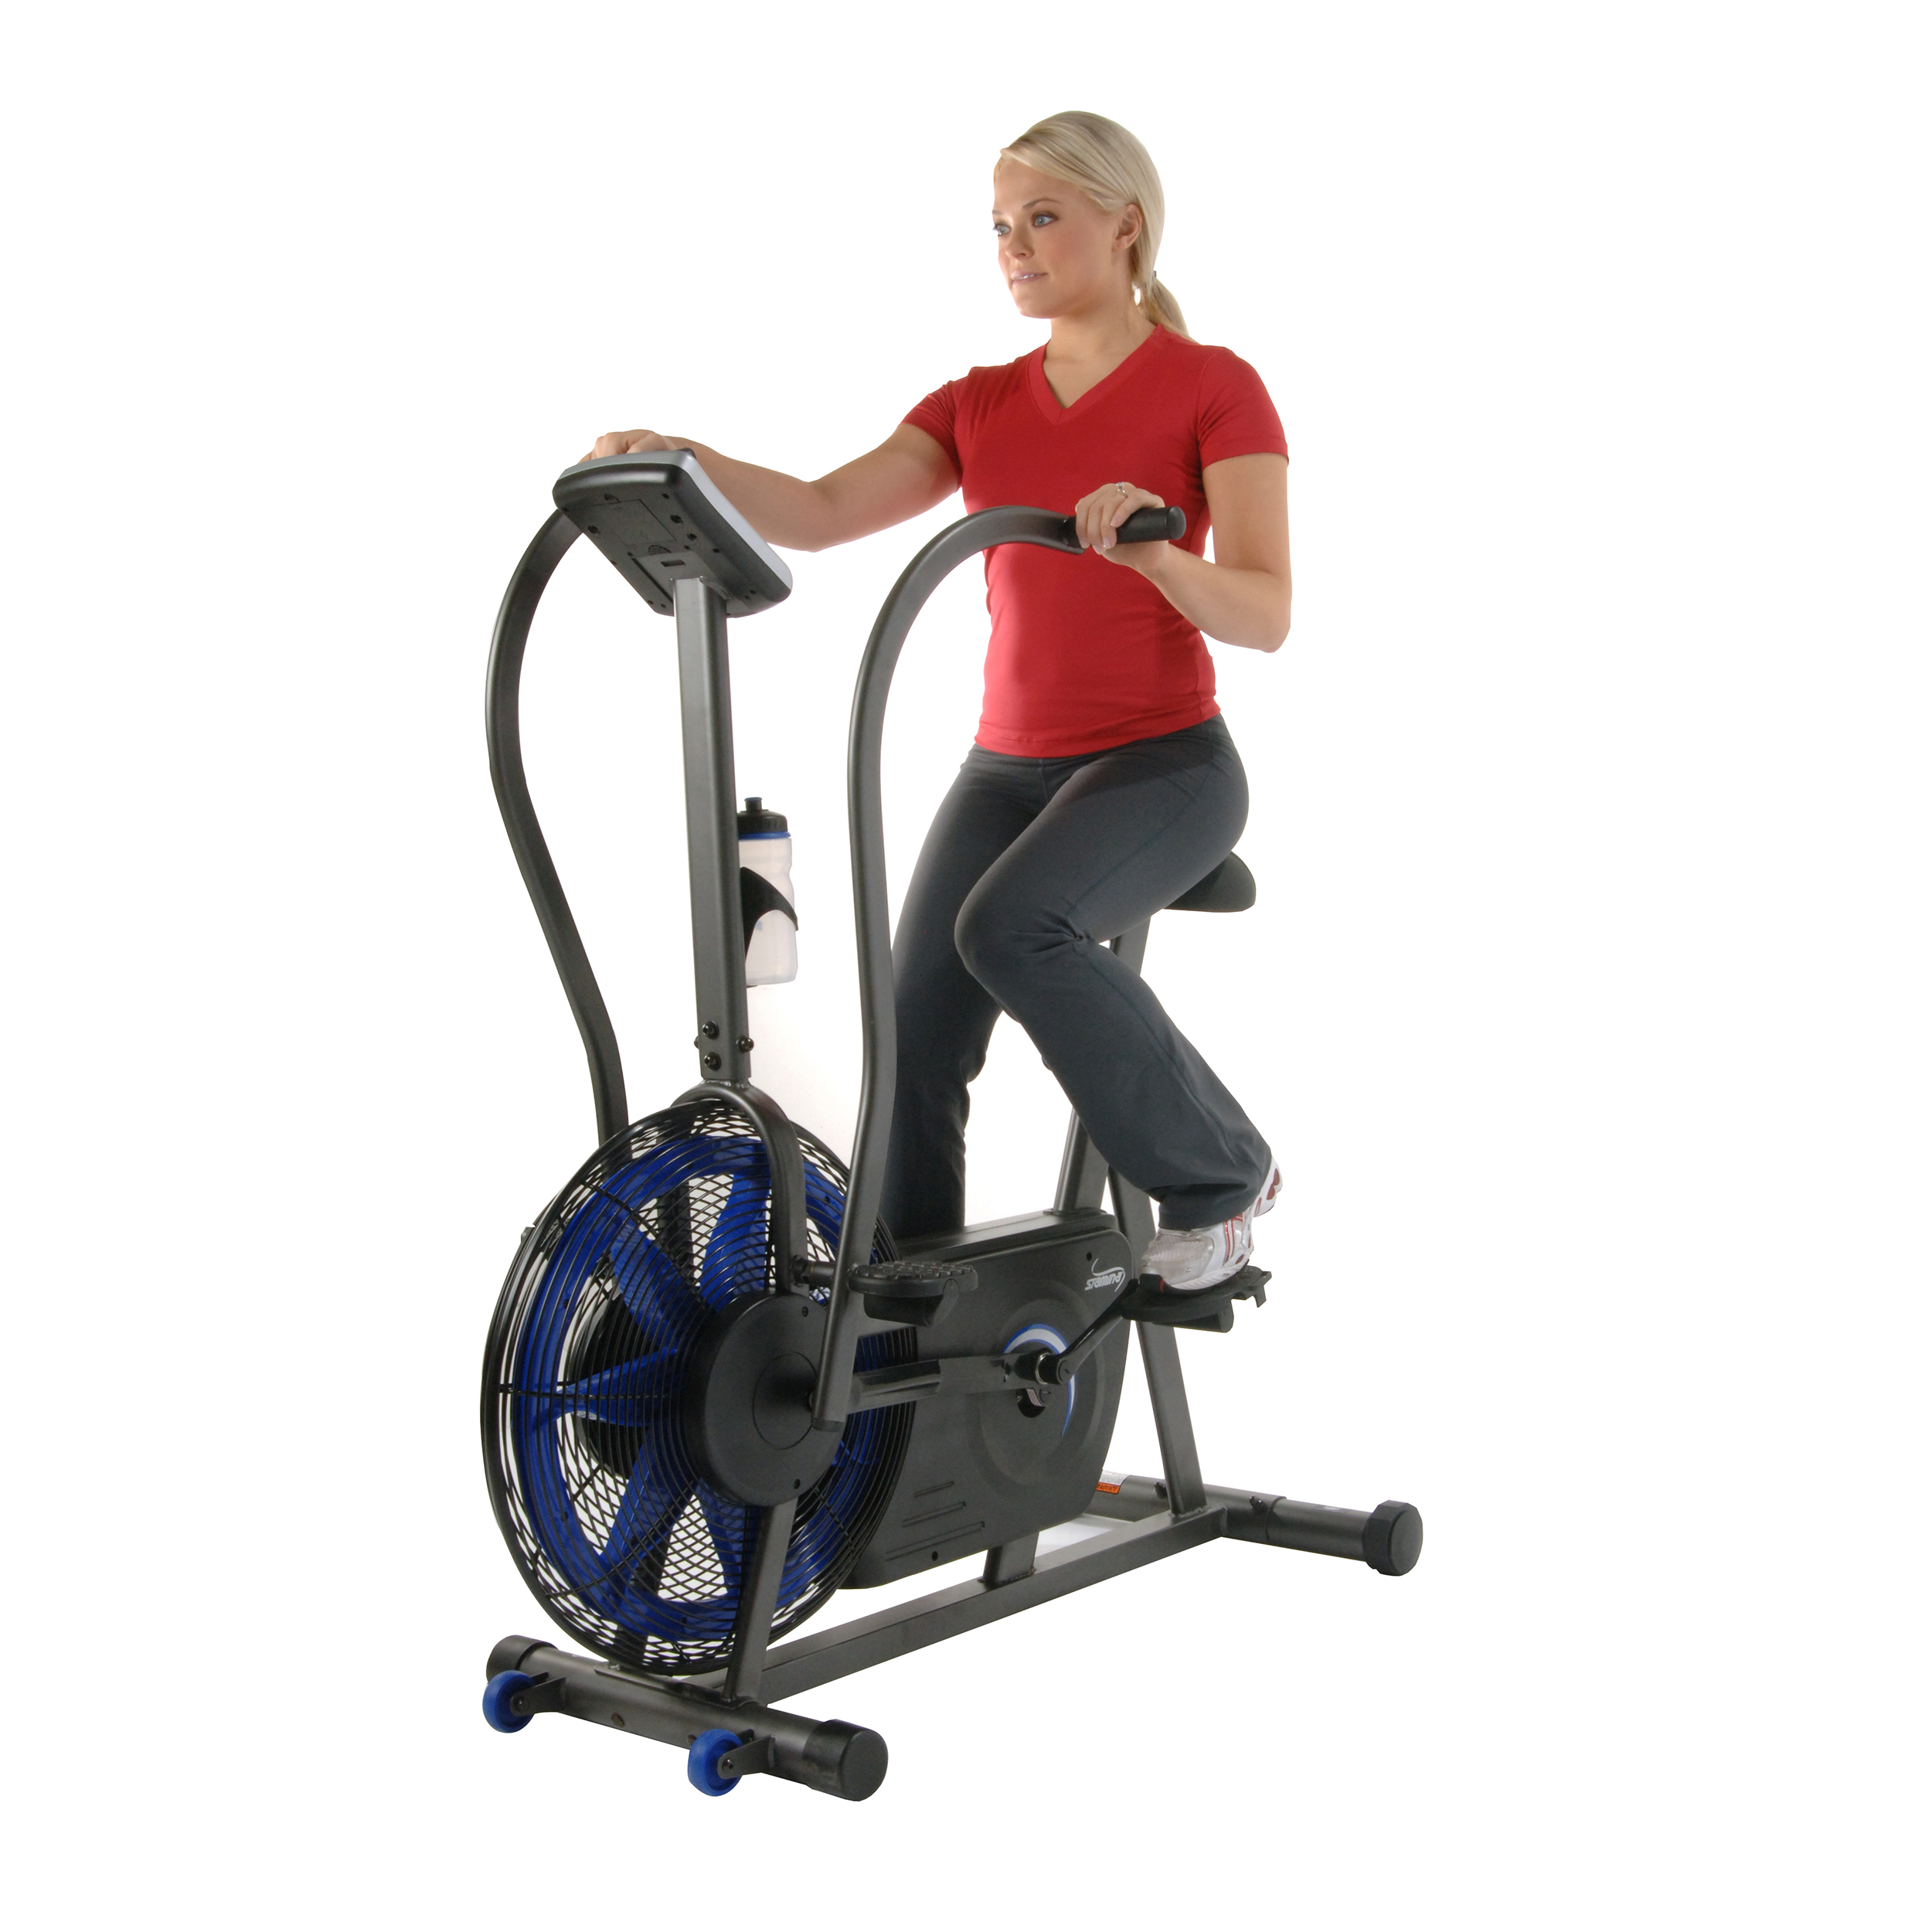gym_bike: (400, 423, 1428, 1815)
